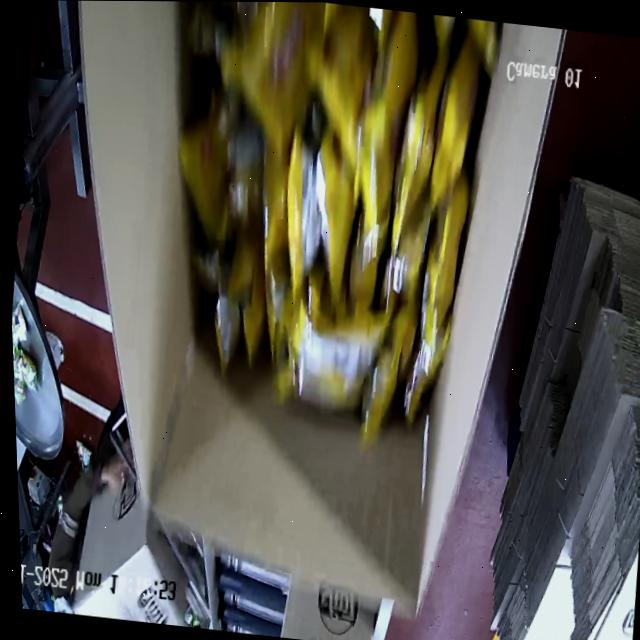SALTED: (165, 1, 497, 430)
